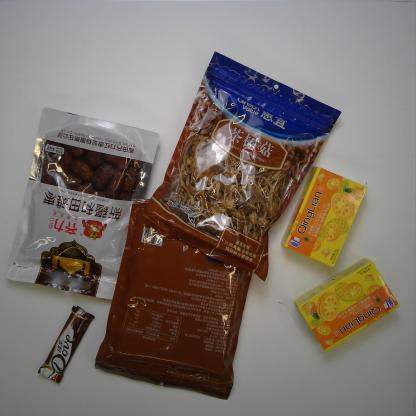Chocolate: (38, 304, 98, 384)
Dessert: (292, 258, 404, 354), (280, 165, 368, 268)
Dried Food: (139, 48, 344, 285), (94, 196, 255, 402), (3, 105, 163, 301)
